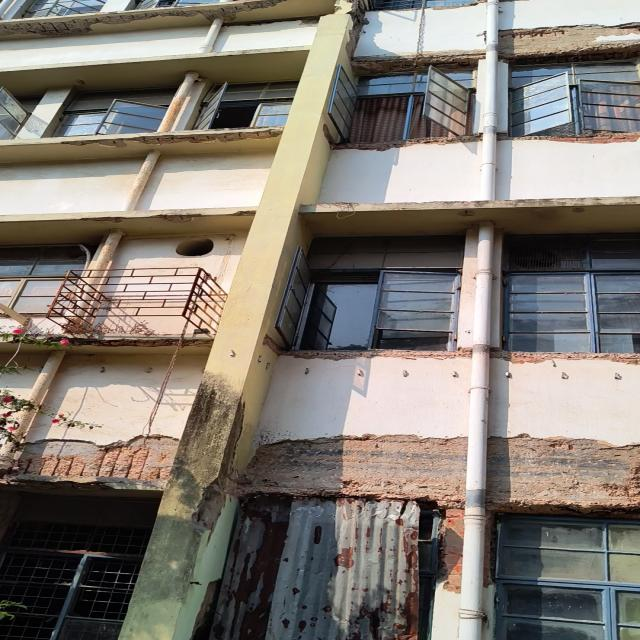peeling: (232, 435, 465, 509), (487, 436, 639, 518), (490, 348, 639, 365), (280, 348, 472, 361), (573, 207, 584, 212)
spalling: (0, 0, 286, 39), (19, 436, 178, 492), (500, 23, 639, 64), (56, 126, 283, 149), (500, 24, 639, 61), (353, 49, 484, 75), (331, 135, 480, 151), (439, 509, 463, 593), (501, 131, 639, 144), (70, 336, 180, 348), (336, 0, 367, 42), (82, 213, 210, 223), (223, 17, 319, 27), (183, 337, 213, 347), (218, 210, 255, 216), (458, 210, 474, 217)
stain_mould: (298, 196, 639, 212)
